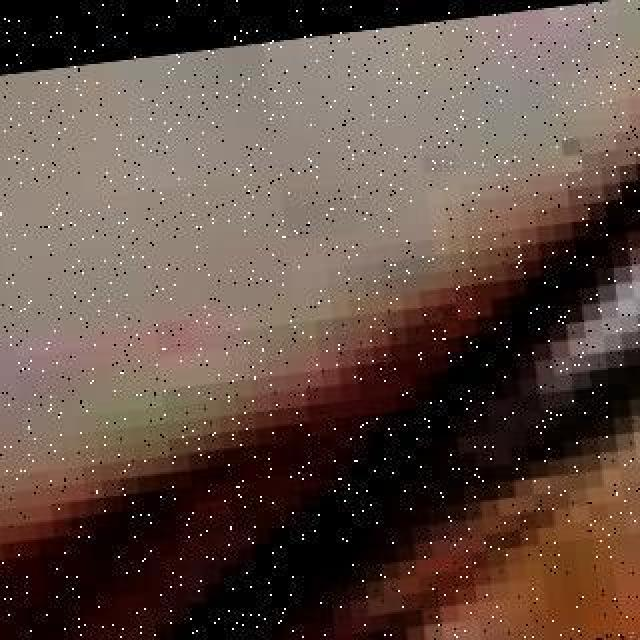cavities: (518, 594, 640, 640)
